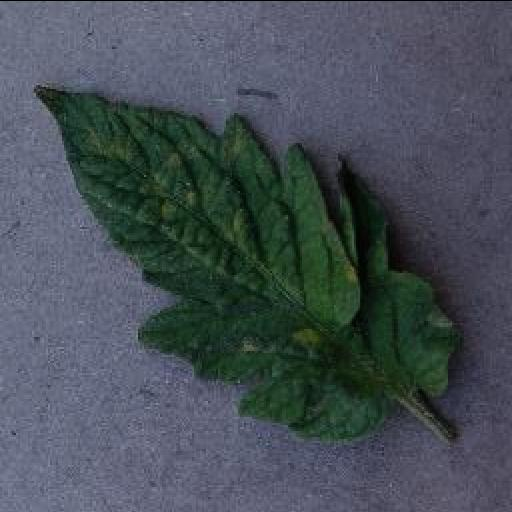disease_tomato: (36, 85, 460, 433)
